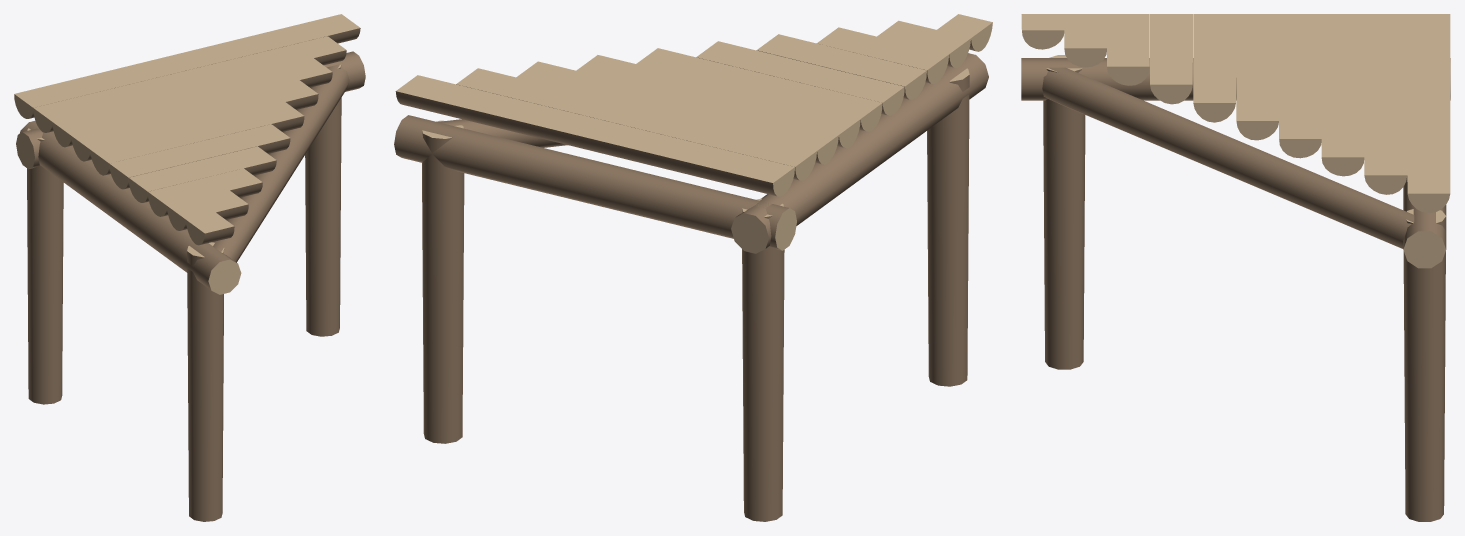
File: log_foundation_triangle.glb
The picture shows the model from 3 angles, left to right: view 1: azimuth 30°, elevation 25°; view 2: azimuth 150°, elevation 25°; view 3: azimuth 270°, elevation 25°; orthographic projection. The views are drawn at different scales.
Visible parts, largest first — view 1: Foundation; view 2: Foundation; view 3: Foundation.
Part boxes in pixels (x1=…): Foundation: x1=14, y1=14, x2=365, y2=521; Foundation: x1=394, y1=14, x2=992, y2=521; Foundation: x1=1021, y1=14, x2=1450, y2=521.
Size of the model in its own units: 3 by 2.6 by 3.
